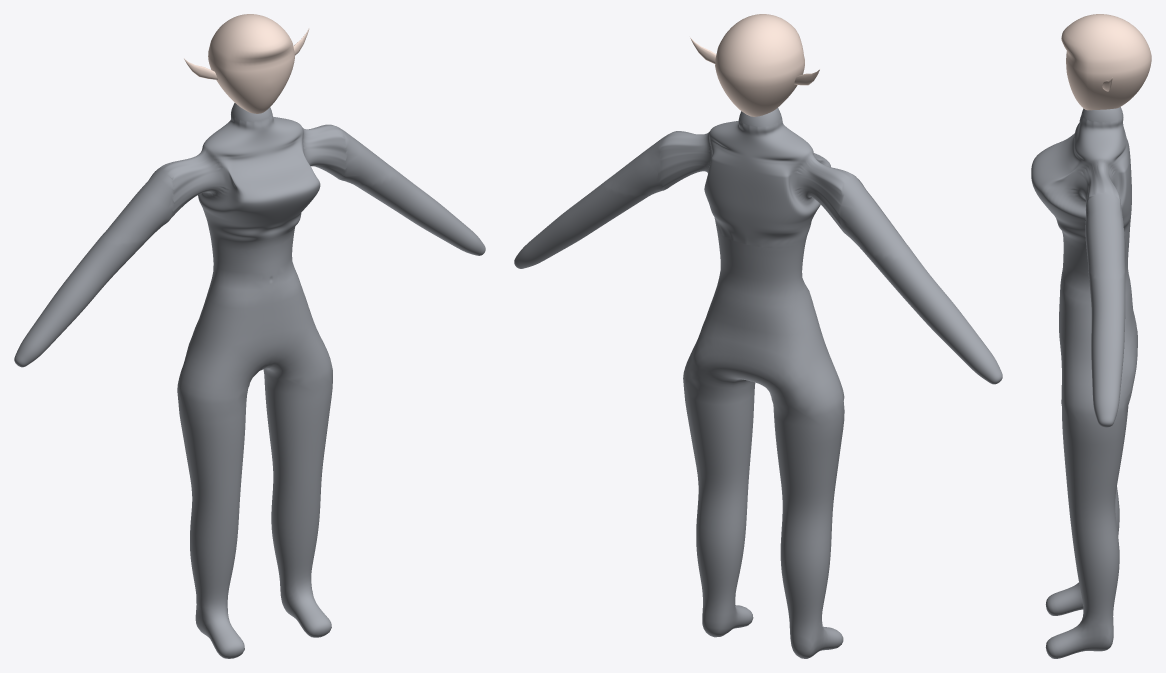
The model's file is body-v3-test.glb.
3 views of the same model, side by side, from view 1: azimuth 30°, elevation 25°; view 2: azimuth 150°, elevation 25°; view 3: azimuth 270°, elevation 25° (orthographic). The views are drawn at different scales.
Parts seen in each view (by area): view 1: emilia_v3_test_body, locked_context_emilia_head; view 2: emilia_v3_test_body, locked_context_emilia_head; view 3: emilia_v3_test_body, locked_context_emilia_head.
Part boxes in pixels (x1=…): emilia_v3_test_body: x1=14, y1=103, x2=485, y2=658; locked_context_emilia_head: x1=208, y1=14, x2=294, y2=113; emilia_v3_test_body: x1=514, y1=108, x2=1002, y2=658; locked_context_emilia_head: x1=715, y1=14, x2=804, y2=116; emilia_v3_test_body: x1=1031, y1=107, x2=1137, y2=658; locked_context_emilia_head: x1=1061, y1=14, x2=1151, y2=110.
Size of the model in its own units: 1.31 by 1.63 by 0.2887.
